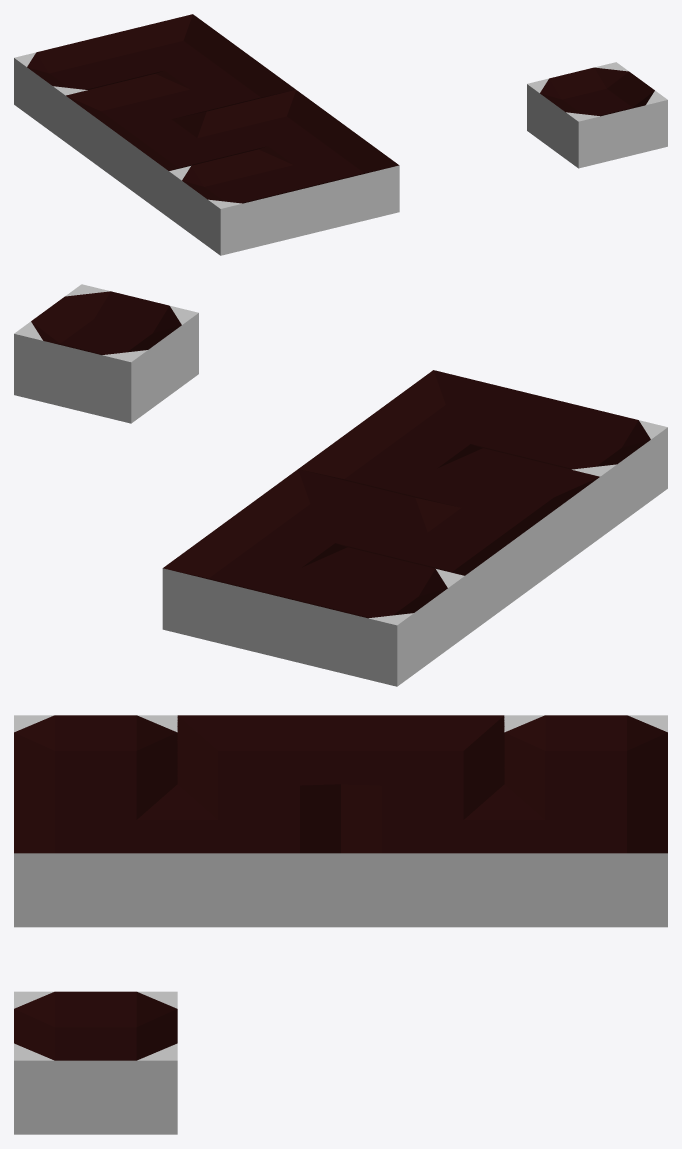
Rendered from 32s_path.obj.
3 views of the same model, one above another, from view 1: azimuth 30°, elevation 25°; view 2: azimuth 150°, elevation 25°; view 3: azimuth 270°, elevation 25° (orthographic). The views are drawn at different scales.
Parts seen in each view (by area): view 1: hole.4.1_Cube.064, ending.0.1_ending.125, corner.1.1_corner.317, corner.0.3_corner.316, ending.0.4_ending.126, corner.1.2_corner.318, corner.1.4_corner.320, corner.0.2_corner.315, corner.1.3_corner.319; view 2: hole.4.1_Cube.064, ending.0.4_ending.126, corner.1.4_corner.320, corner.0.2_corner.315, ending.0.1_ending.125, corner.1.3_corner.319, corner.1.1_corner.317, corner.0.3_corner.316, corner.1.2_corner.318; view 3: hole.4.1_Cube.064, corner.1.1_corner.317, corner.1.3_corner.319, corner.1.2_corner.318, corner.1.4_corner.320, ending.0.1_ending.125, corner.0.3_corner.316, corner.0.2_corner.315, ending.0.4_ending.126.
Part boxes in pixels (bbox=[...]): hole.4.1_Cube.064: bbox=[527, 62, 667, 168]; ending.0.1_ending.125: bbox=[169, 149, 309, 255]; corner.1.1_corner.317: bbox=[259, 128, 399, 233]; corner.0.3_corner.316: bbox=[65, 74, 205, 179]; ending.0.4_ending.126: bbox=[14, 36, 153, 141]; corner.1.2_corner.318: bbox=[207, 90, 347, 155]; corner.1.4_corner.320: bbox=[103, 14, 243, 79]; corner.0.2_corner.315: bbox=[117, 111, 256, 217]; corner.1.3_corner.319: bbox=[155, 52, 295, 113]; hole.4.1_Cube.064: bbox=[14, 284, 198, 423]; ending.0.4_ending.126: bbox=[280, 547, 464, 686]; corner.1.4_corner.320: bbox=[162, 519, 347, 657]; corner.0.2_corner.315: bbox=[415, 448, 600, 587]; ending.0.1_ending.125: bbox=[484, 398, 667, 537]; corner.1.3_corner.319: bbox=[230, 469, 414, 555]; corner.1.1_corner.317: bbox=[366, 370, 550, 456]; corner.0.3_corner.316: bbox=[350, 498, 532, 636]; corner.1.2_corner.318: bbox=[298, 419, 482, 500]; hole.4.1_Cube.064: bbox=[14, 991, 177, 1134]; corner.1.1_corner.317: bbox=[14, 784, 177, 927]; corner.1.3_corner.319: bbox=[341, 784, 504, 927]; corner.1.2_corner.318: bbox=[177, 784, 340, 927]; corner.1.4_corner.320: bbox=[504, 784, 667, 927]; ending.0.1_ending.125: bbox=[14, 715, 177, 802]; corner.0.3_corner.316: bbox=[341, 715, 504, 802]; corner.0.2_corner.315: bbox=[177, 715, 340, 802]; ending.0.4_ending.126: bbox=[504, 715, 667, 802].
Bounding box in the file's own units: 10 × 1 × 8.
